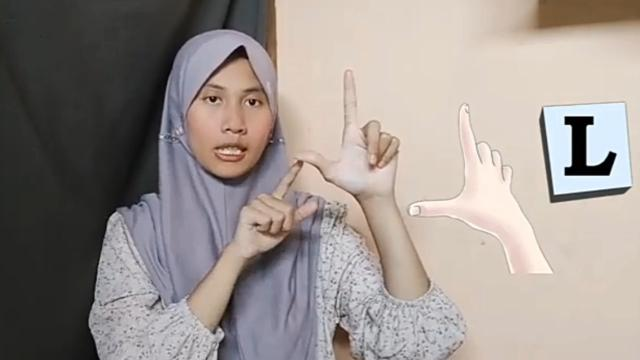L: (293, 67, 401, 196)
